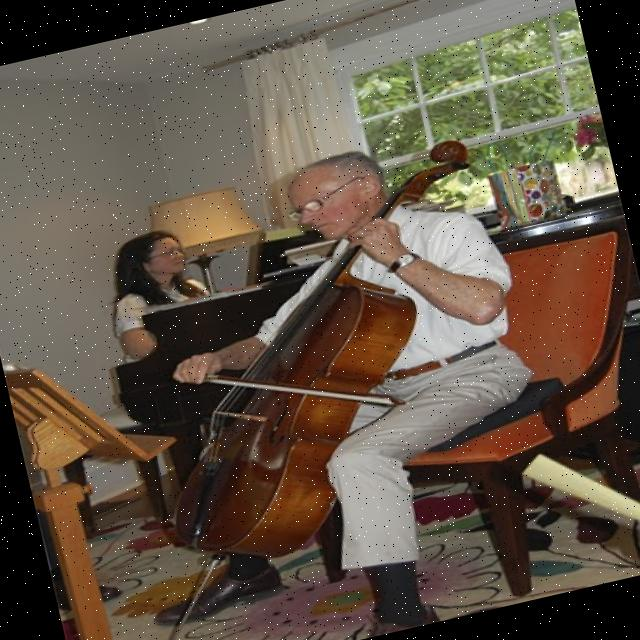cello: (101, 133, 552, 580)
